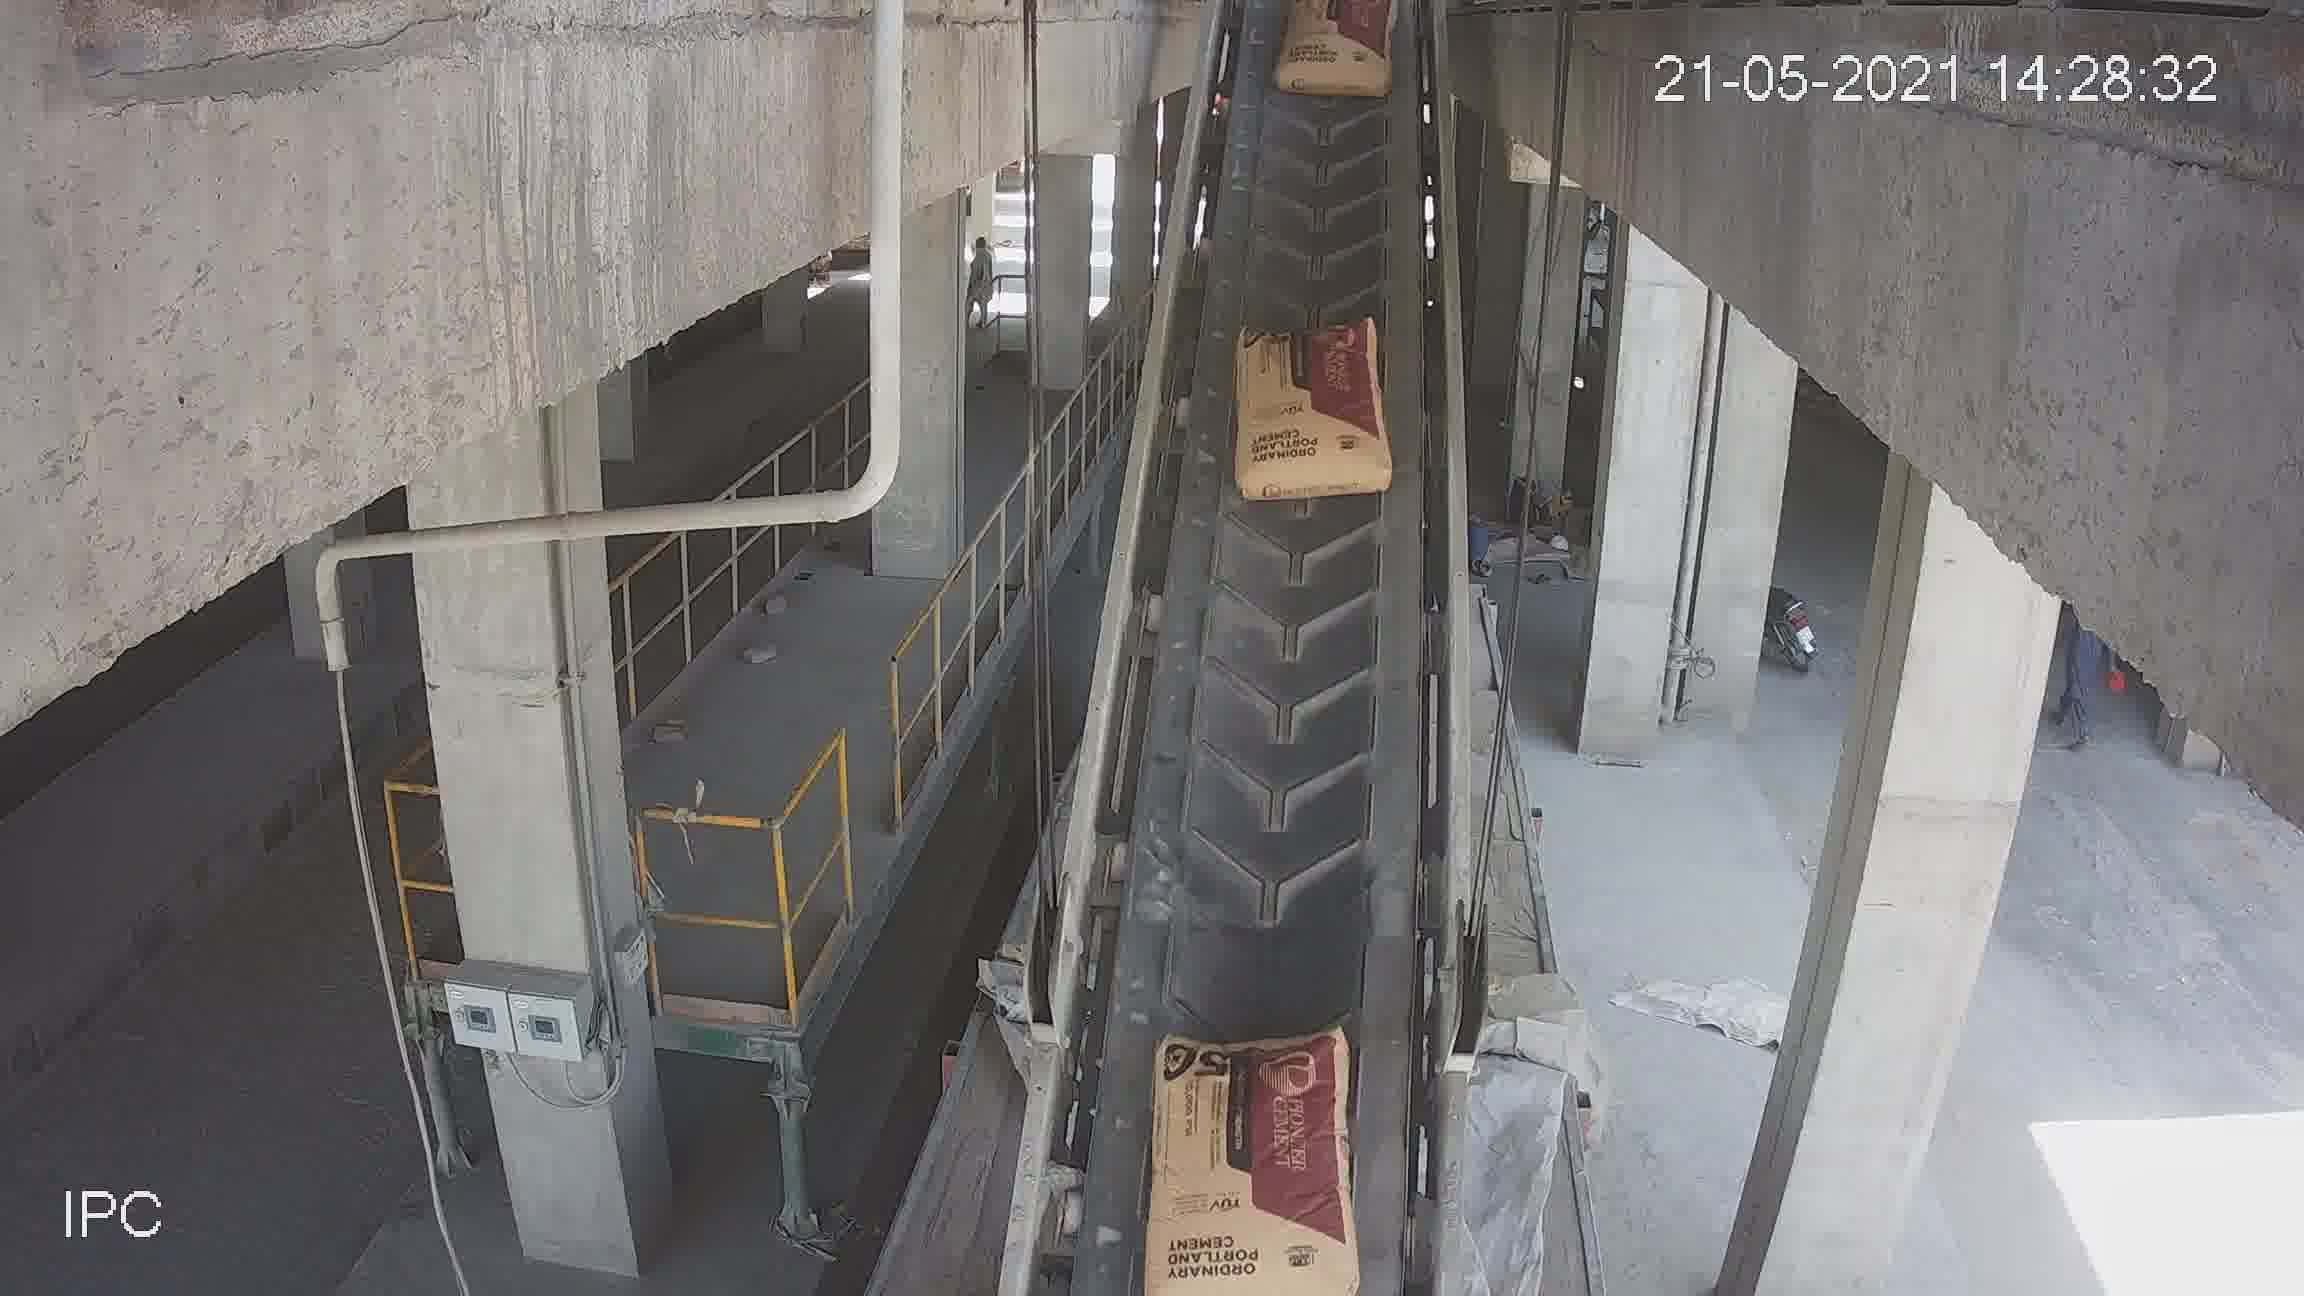bag: (1150, 1033, 1343, 1280), (1234, 321, 1383, 506), (1287, 0, 1388, 90)
belt: (1054, 46, 1476, 1272)
